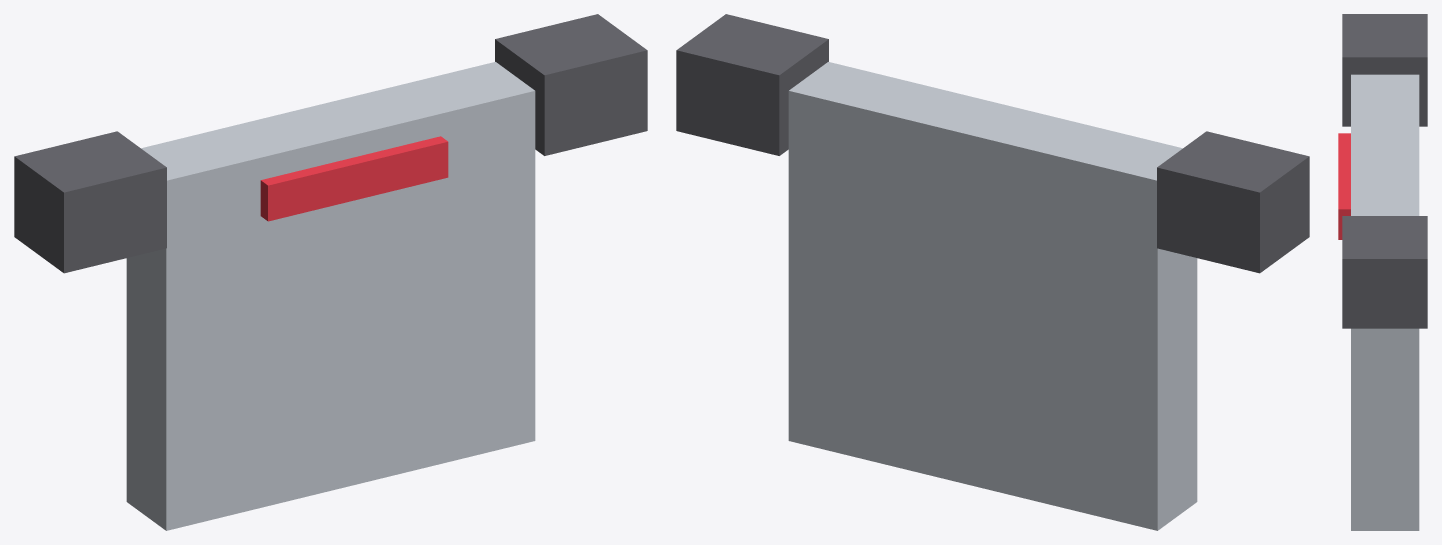
The model's file is plate-harness-prototype.glb.
The picture shows the model from 3 angles, left to right: view 1: azimuth 30°, elevation 25°; view 2: azimuth 150°, elevation 25°; view 3: azimuth 270°, elevation 25°; orthographic projection. The views are drawn at different scales.
Parts seen in each view (by area): view 1: plate-breast, left-pauldron, right-pauldron, crimson-status-bar; view 2: plate-breast, left-pauldron, right-pauldron; view 3: plate-breast, right-pauldron, left-pauldron, crimson-status-bar.
Part boxes in pixels (x1,y1,x2,y2): plate-breast: (126, 62, 535, 530); left-pauldron: (14, 131, 166, 273); right-pauldron: (495, 14, 647, 155); crimson-status-bar: (260, 136, 448, 221); plate-breast: (788, 62, 1197, 530); left-pauldron: (1157, 131, 1309, 273); right-pauldron: (676, 14, 828, 155); plate-breast: (1351, 74, 1419, 530); right-pauldron: (1342, 216, 1427, 328); left-pauldron: (1342, 14, 1427, 126); crimson-status-bar: (1338, 133, 1350, 239).
Size of the model in its own units: 1.36 by 0.82 by 0.21.
